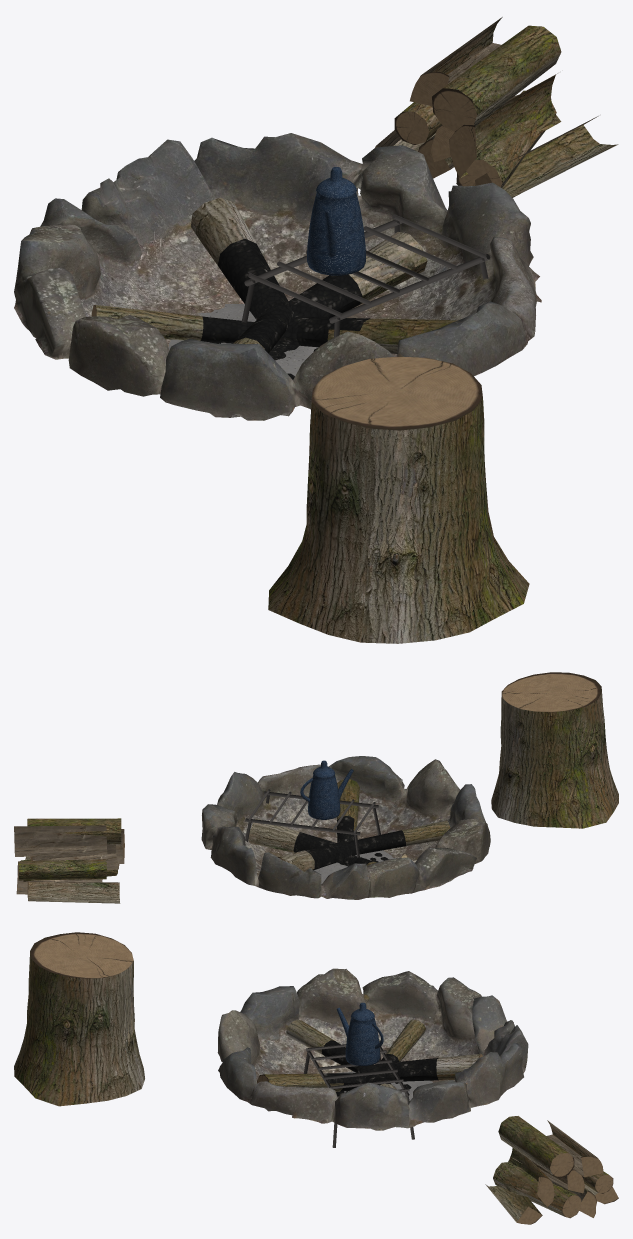
File: campfire.glb
3 renders of one model, top to bottom at view 1: azimuth 30°, elevation 25°; view 2: azimuth 150°, elevation 25°; view 3: azimuth 270°, elevation 25°, orthographic. The views are drawn at different scales.
Visible parts, largest first — view 1: FirePit_Stones_mesh, Stump_Seat_mesh, Firewood_Pile_mesh, Fire_Logs_mesh, CoffeePot_mesh, Fire_Grate_mesh, Fire_Ash_mesh; view 2: FirePit_Stones_mesh, Stump_Seat_mesh, Firewood_Pile_mesh, Fire_Logs_mesh, CoffeePot_mesh, Fire_Grate_mesh, Fire_Ash_mesh; view 3: FirePit_Stones_mesh, Stump_Seat_mesh, Firewood_Pile_mesh, Fire_Logs_mesh, CoffeePot_mesh, Fire_Grate_mesh.
Boxes of the visible parts, box(x1,y1,x2,y2) form: FirePit_Stones_mesh: box(14, 133, 541, 420); Stump_Seat_mesh: box(268, 356, 529, 643); Firewood_Pile_mesh: box(375, 17, 618, 197); Fire_Logs_mesh: box(91, 197, 457, 353); CoffeePot_mesh: box(307, 167, 365, 275); Fire_Grate_mesh: box(241, 214, 490, 337); Fire_Ash_mesh: box(168, 304, 318, 376); FirePit_Stones_mesh: box(201, 756, 490, 899); Stump_Seat_mesh: box(491, 672, 618, 828); Firewood_Pile_mesh: box(14, 818, 124, 903); Fire_Logs_mesh: box(248, 779, 450, 871); CoffeePot_mesh: box(300, 760, 353, 819); Fire_Grate_mesh: box(245, 789, 380, 857); Fire_Ash_mesh: box(313, 850, 395, 884); FirePit_Stones_mesh: box(217, 968, 528, 1130); Stump_Seat_mesh: box(14, 932, 144, 1106); Firewood_Pile_mesh: box(485, 1116, 618, 1224); Fire_Logs_mesh: box(257, 1019, 482, 1091); CoffeePot_mesh: box(336, 1002, 383, 1065); Fire_Grate_mesh: box(303, 1040, 414, 1147).
Size of the model in its own units: 1.87 by 0.5322 by 2.37.
Materials: 9 (8 with a texture image).
